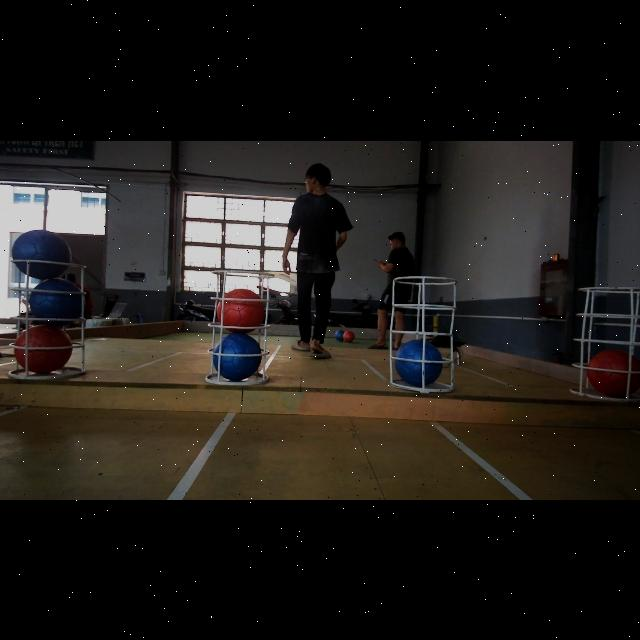B: (12, 229, 72, 279), (213, 332, 265, 382), (29, 279, 86, 323), (396, 339, 444, 387)
R: (586, 348, 640, 396), (15, 326, 71, 372), (216, 288, 264, 332)
